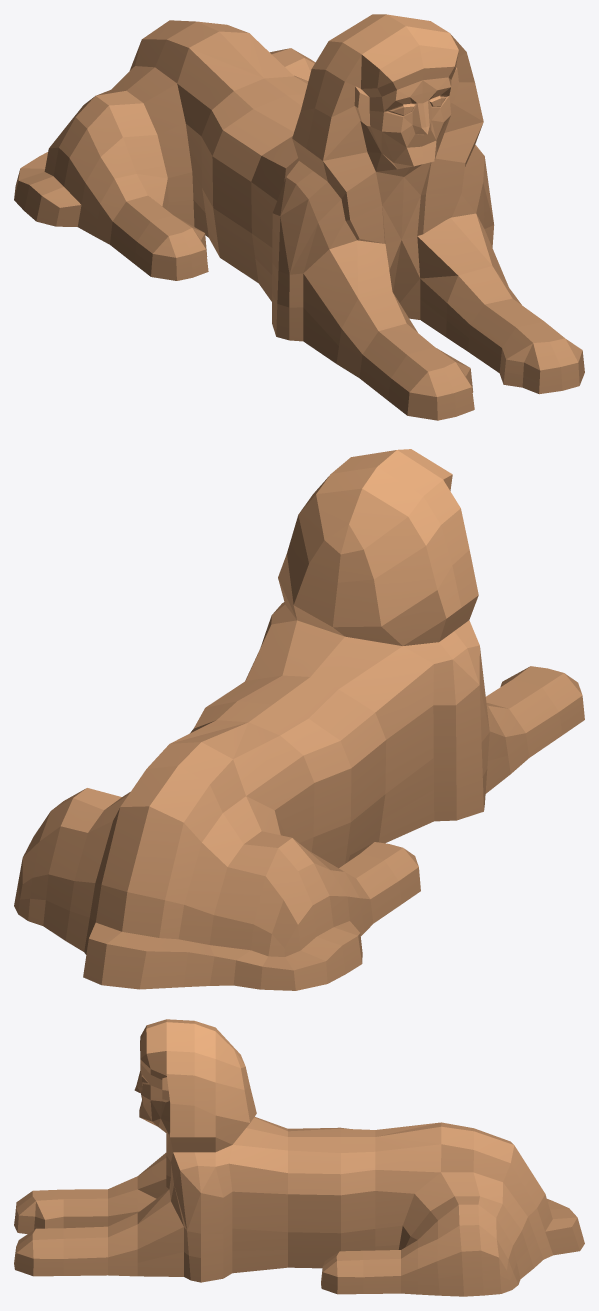
The model's file is sphinx.fbx.
3 views of the same model, one above another, from view 1: azimuth 30°, elevation 25°; view 2: azimuth 150°, elevation 25°; view 3: azimuth 270°, elevation 25° (orthographic). The views are drawn at different scales.
Visible parts, largest first — view 1: sphinx; view 2: sphinx; view 3: sphinx.
Boxes of the visible parts, box(x1,y1,x2,y2) form: sphinx: box(14, 14, 584, 420); sphinx: box(14, 449, 584, 990); sphinx: box(14, 1019, 584, 1296).
Bounding box in the file's own units: 582 × 536 × 1247.
